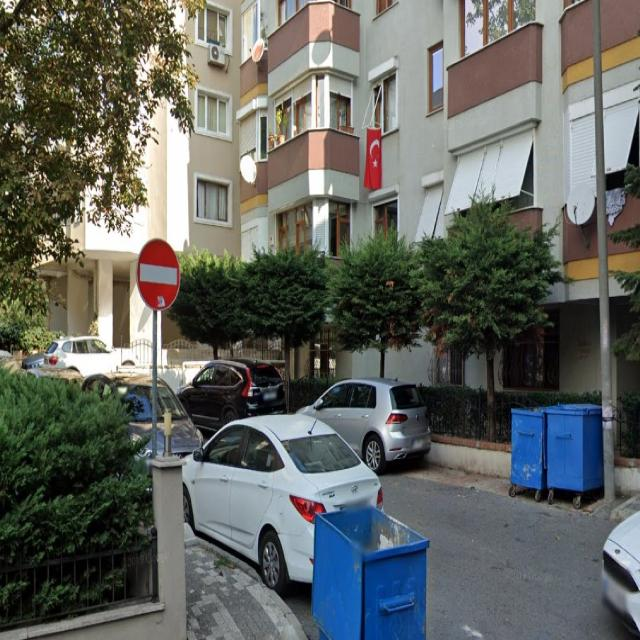girisyok: (136, 238, 180, 312)
